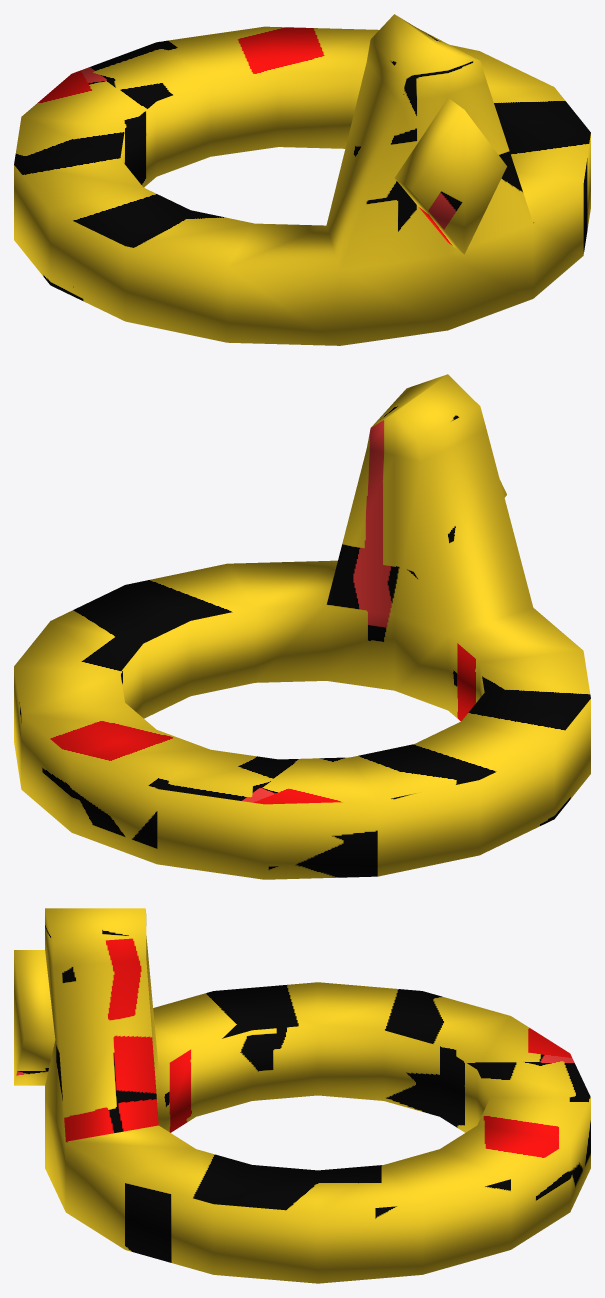
File: Crown_v3.fbx
The picture shows the model from 3 angles, top to bottom: view 1: azimuth 30°, elevation 25°; view 2: azimuth 150°, elevation 25°; view 3: azimuth 270°, elevation 25°; orthographic projection. The views are drawn at different scales.
Visible parts, largest first — view 1: CoroaV3; view 2: CoroaV3; view 3: CoroaV3.
Part boxes in pixels (x1,y1,x2,y2): CoroaV3: [14, 14, 590, 345]; CoroaV3: [14, 374, 590, 879]; CoroaV3: [14, 908, 590, 1283].
Bounding box in the file's own units: 132 × 69.53 × 140.
1 material, 1 textured.
